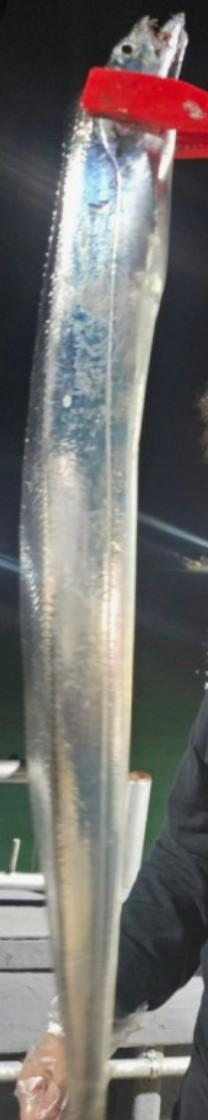fish: (20, 15, 186, 1119)
